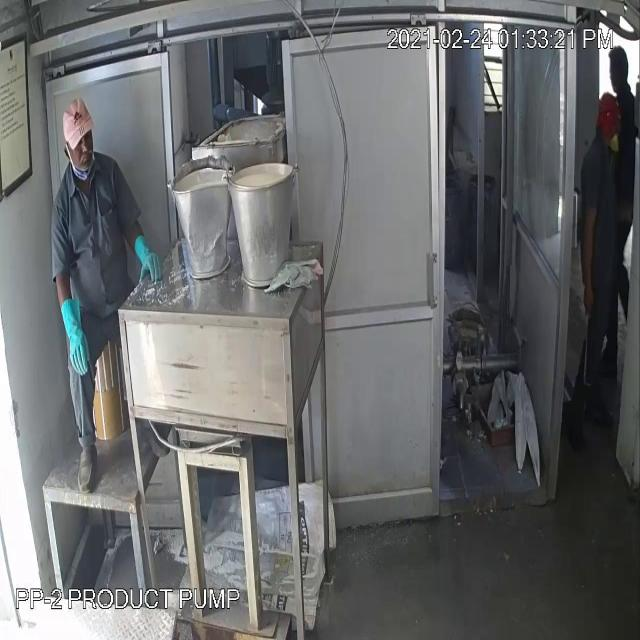no-helmet: (56, 87, 98, 151)
